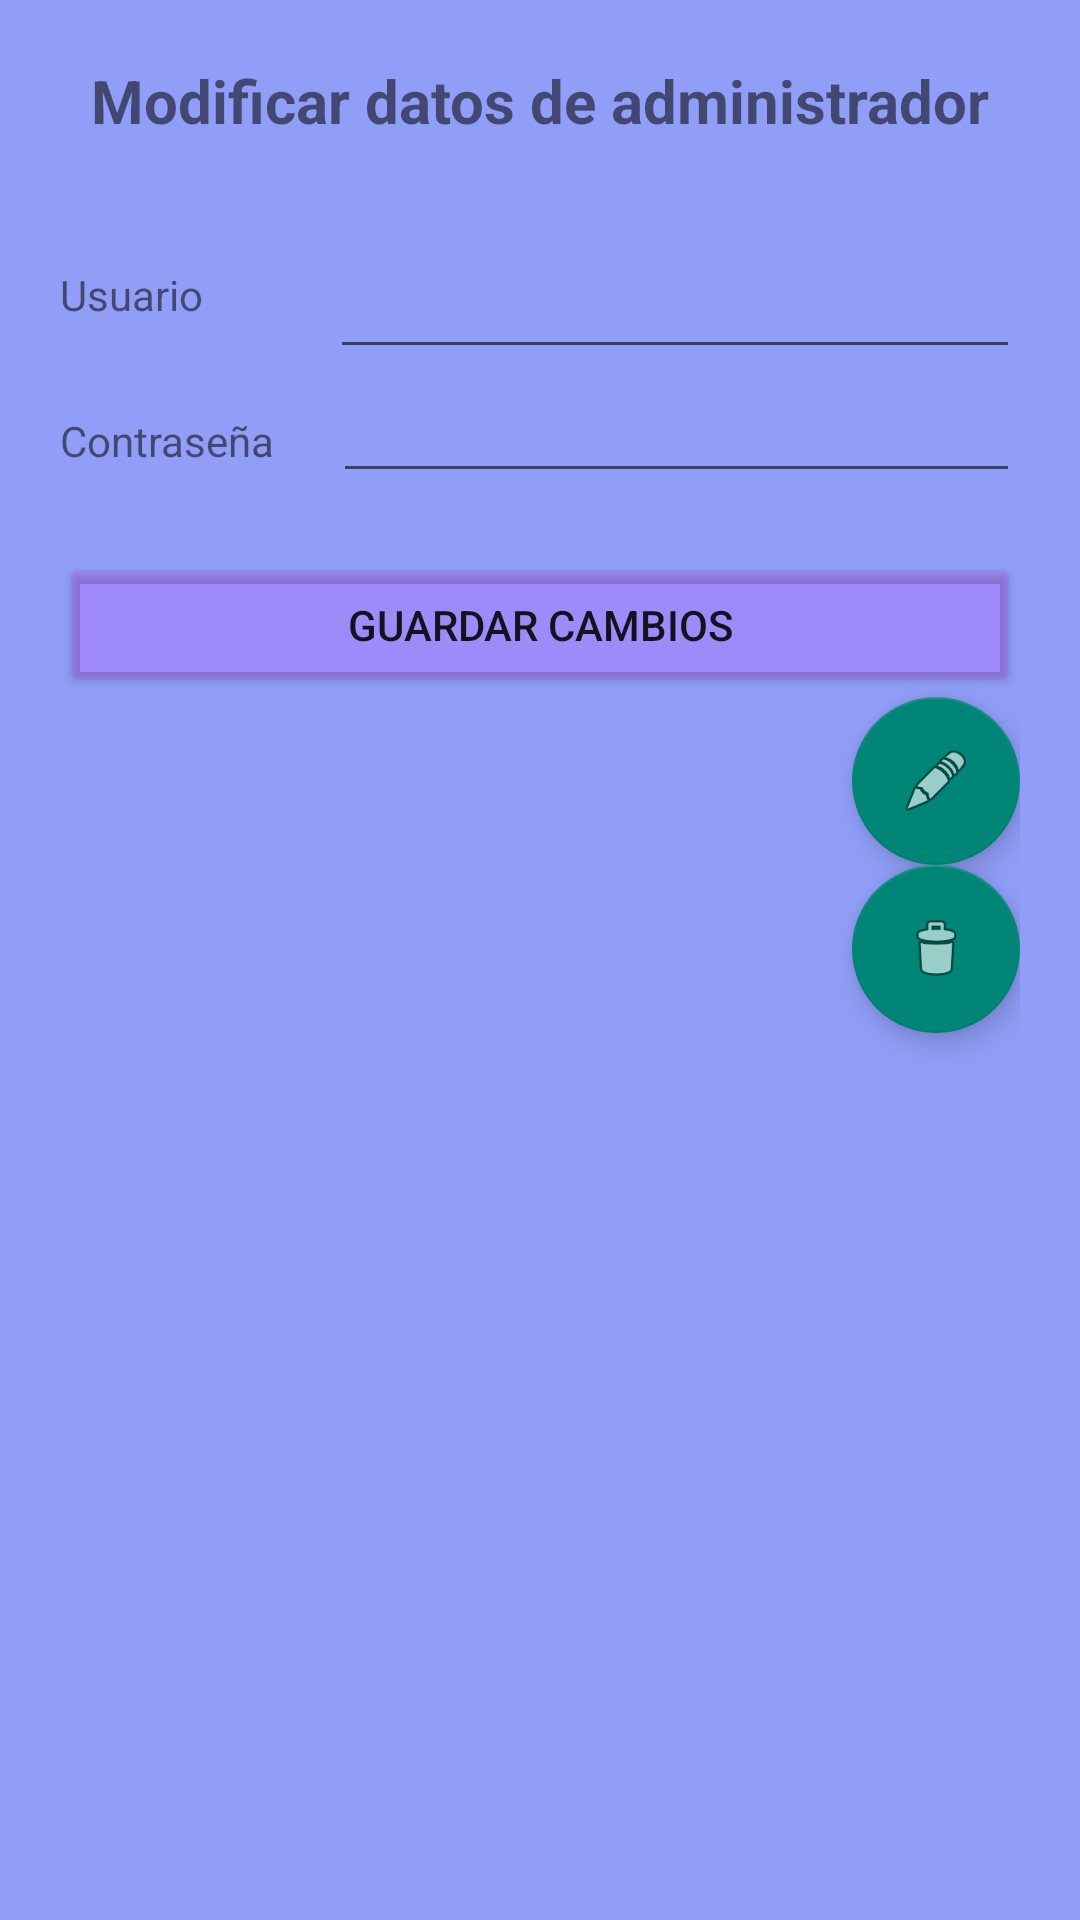

Named icons in this screenshot (1080px×1920px) and their bounding boxes, (left=x1, top=y1, right=x2, bottom=y2):
delete: (left=852, top=865, right=1020, bottom=1033)
edit: (left=852, top=697, right=1020, bottom=865)
